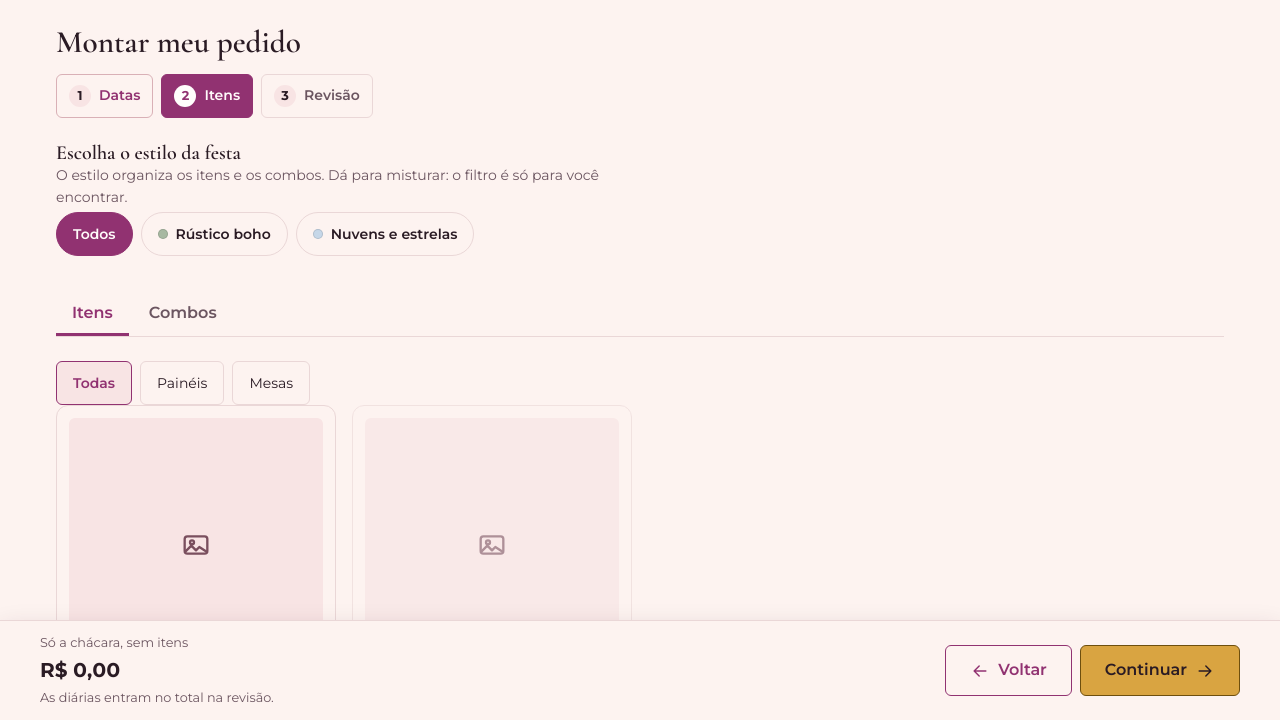
Scenario: BookingWizard, passo de itens › completa o combo pondo no pedido o que falta
Expected: the text "Painel de balões arco-íris" is shown, [69,682,274,702]
Step 1. Click the tab "Combos" → [183, 314], box [133,292,233,336]
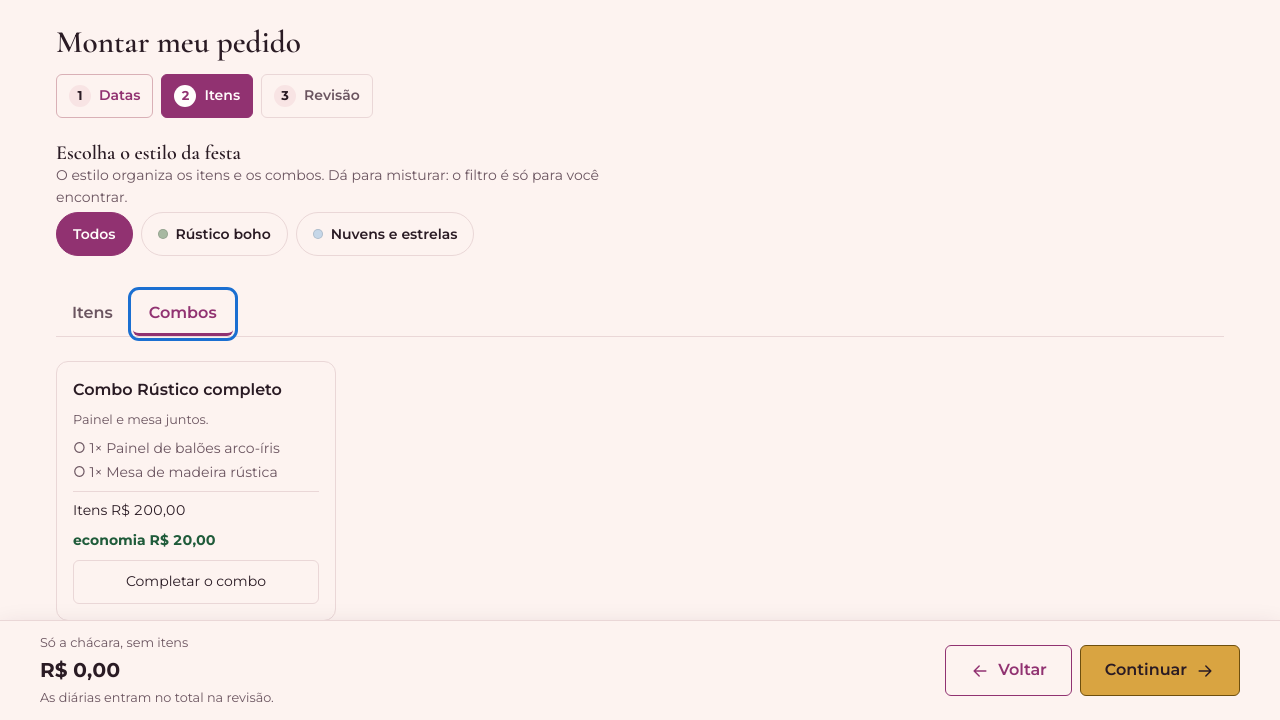
Step 2. Click the button "Completar o combo" → [196, 582], box [73,560,319,604]
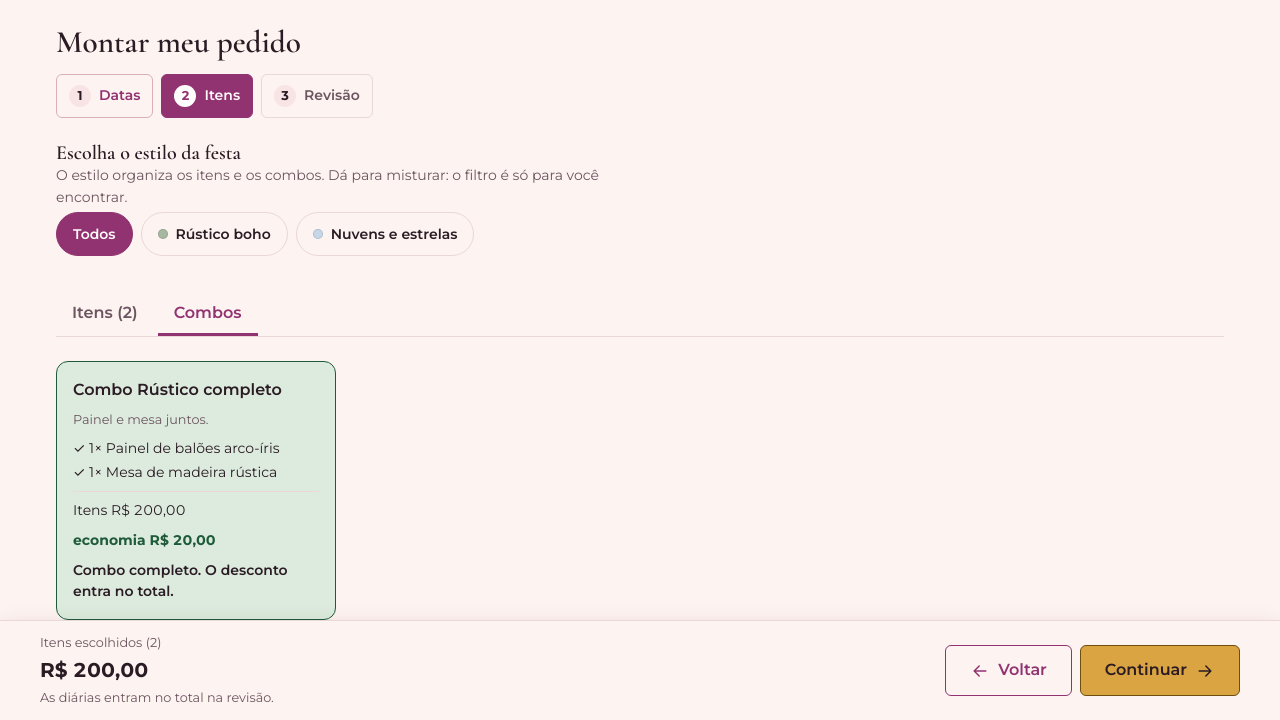
Expected: the text "Combo completo. O desconto entra no total." is shown, [73,560,319,603]
Expected: the tab "Itens (2)" is shown, [56,292,154,336]
